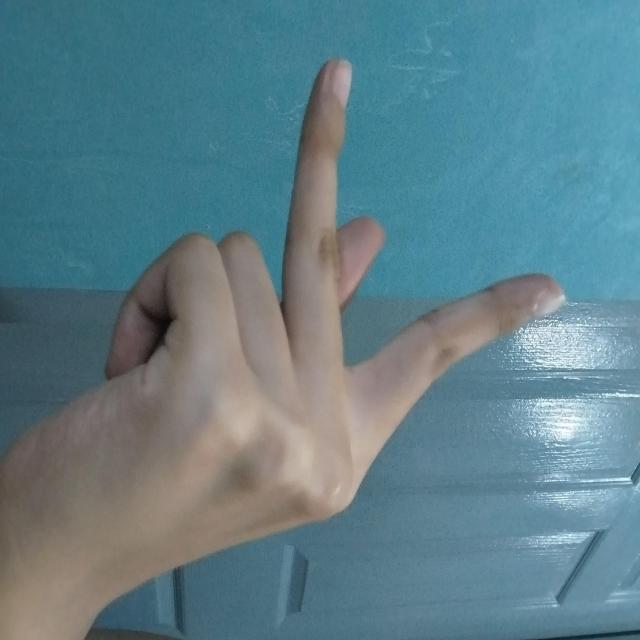K: (58, 70, 576, 632)
